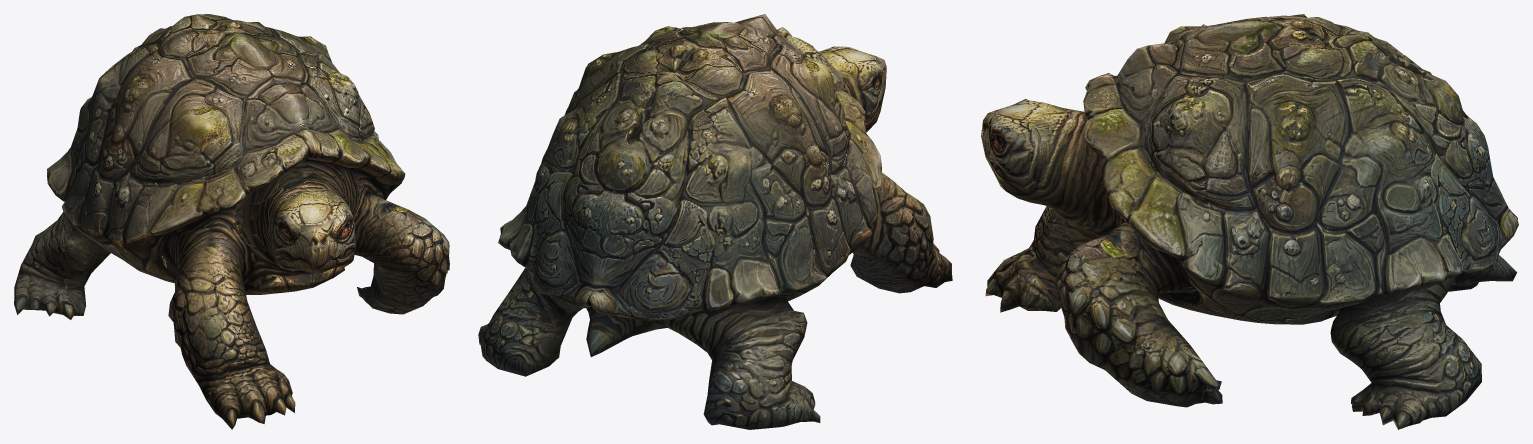
Rendered from MillenniumTurtle.glb.
The picture shows the model from 3 angles, left to right: view 1: azimuth 30°, elevation 25°; view 2: azimuth 150°, elevation 25°; view 3: azimuth 270°, elevation 25°; orthographic projection. The views are drawn at different scales.
Parts seen in each view (by area): view 1: texture_mapping; view 2: texture_mapping; view 3: texture_mapping.
Boxes of the visible parts, x1,y1,x2,y2 form: texture_mapping: (14, 14, 449, 429); texture_mapping: (478, 14, 952, 429); texture_mapping: (981, 14, 1518, 429).
Bounding box in the file's own units: 0.8174 × 0.6767 × 1.01.
1 material, 1 textured.
